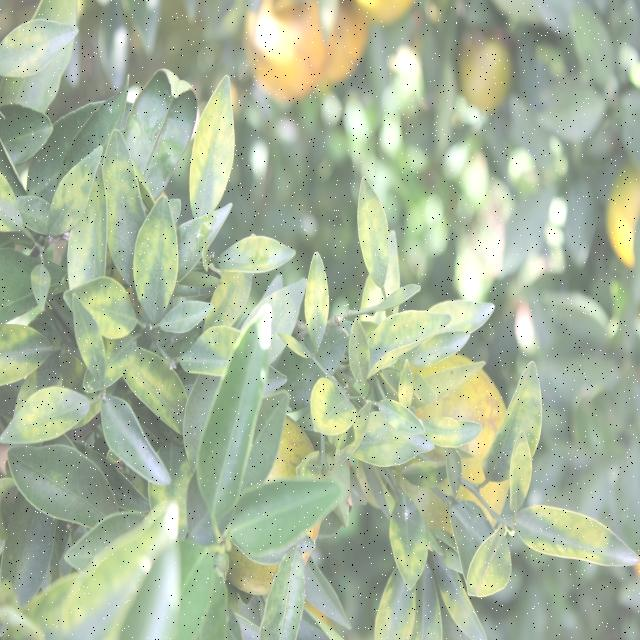greening: (528, 501, 630, 571), (187, 73, 238, 208), (363, 305, 450, 375), (129, 196, 178, 314), (128, 347, 188, 429), (45, 147, 100, 234), (104, 129, 139, 257), (355, 183, 395, 285), (75, 272, 131, 338), (354, 424, 433, 466), (222, 234, 296, 277), (304, 253, 333, 344)
